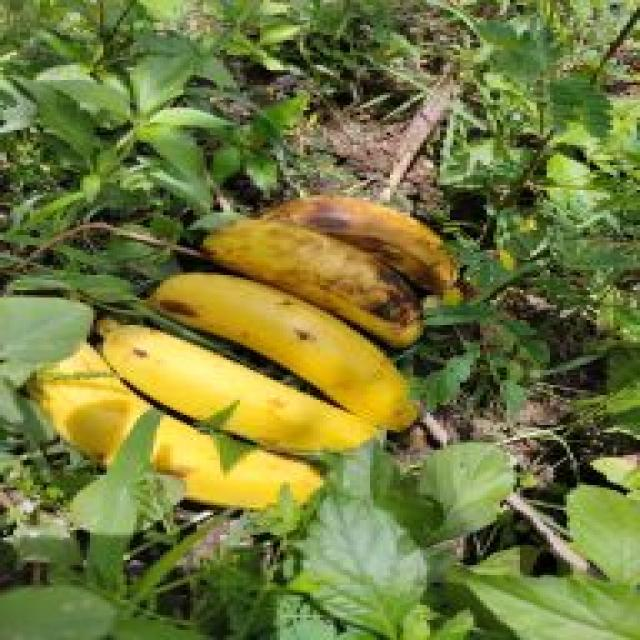Organik: (28, 353, 292, 535), (130, 265, 417, 422), (97, 318, 376, 456), (204, 218, 433, 340), (280, 184, 488, 294)
